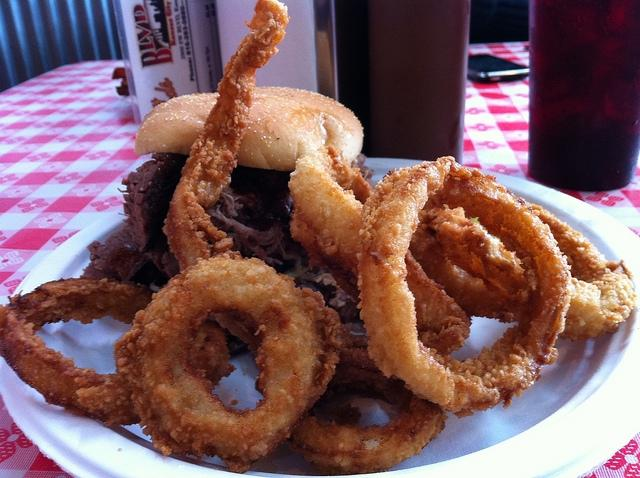onion: (356, 155, 576, 418), (162, 0, 288, 358), (0, 275, 157, 427), (288, 330, 446, 466), (526, 201, 638, 342)
